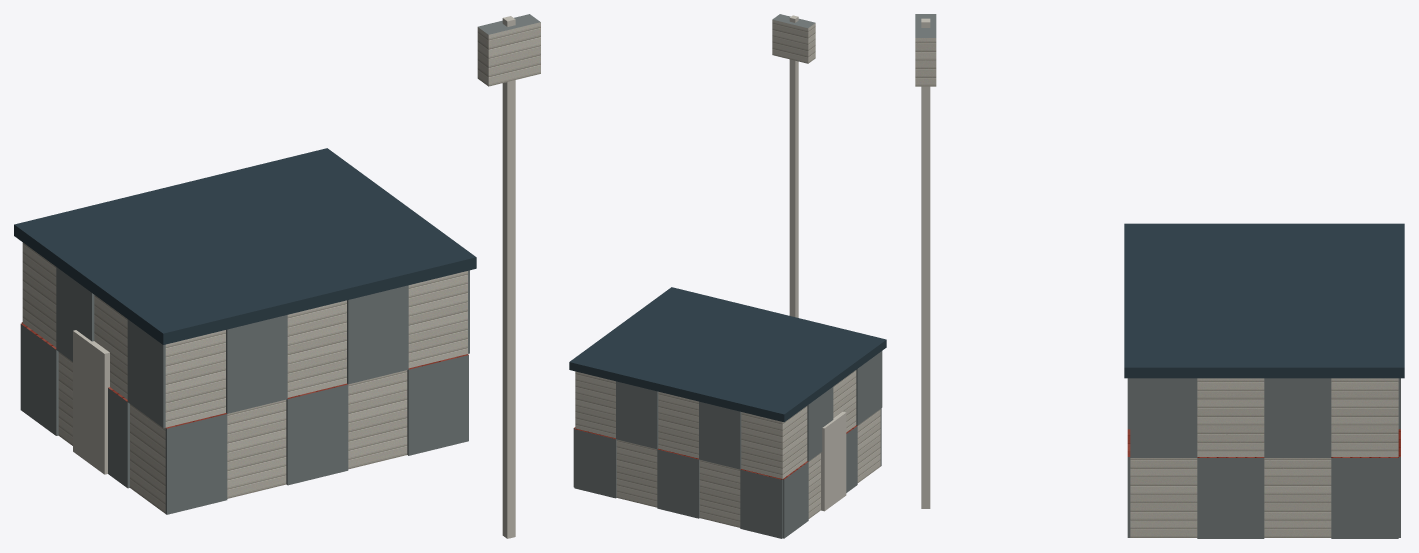
File: cyxd_gs_hut.gltf
3 renders of one model, left to right at view 1: azimuth 30°, elevation 25°; view 2: azimuth 150°, elevation 25°; view 3: azimuth 270°, elevation 25°, orthographic. The views are drawn at different scales.
Parts seen in each view (by area): view 1: cyxd_gs_hut; view 2: cyxd_gs_hut; view 3: cyxd_gs_hut.
Boxes of the visible parts, box(x1,y1,x2,y2) form: cyxd_gs_hut: box(14, 14, 540, 538); cyxd_gs_hut: box(569, 14, 886, 538); cyxd_gs_hut: box(915, 14, 1404, 538).
Size of the model in its own units: 5.7 by 9 by 8.2.
